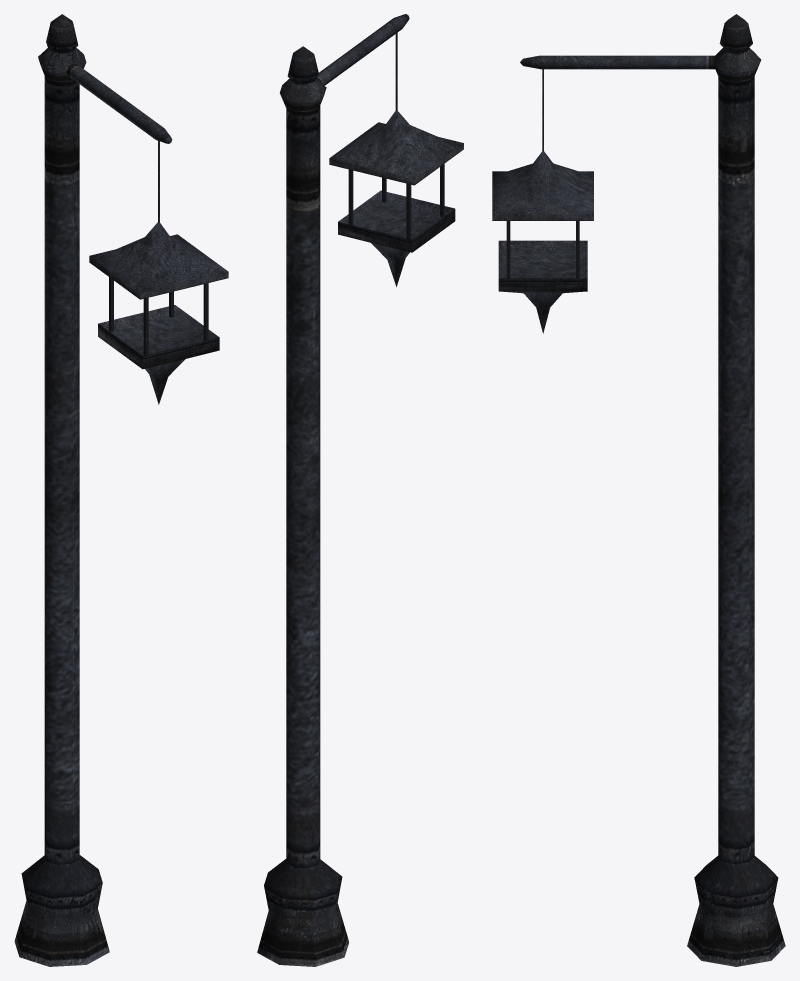
File: LampPost.fbx
The picture shows the model from 3 angles, left to right: view 1: azimuth 30°, elevation 25°; view 2: azimuth 150°, elevation 25°; view 3: azimuth 270°, elevation 25°; orthographic projection. The views are drawn at different scales.
Parts seen in each view (by area): view 1: Pole_Main, Lamp_Case, Pole_2, SmallPoles; view 2: Pole_Main, Lamp_Case, Pole_2, SmallPoles; view 3: Pole_Main, Lamp_Case, Pole_2.
Part boxes in pixels (x1,y1,x2,y2): Pole_Main: [14, 14, 109, 966]; Lamp_Case: [89, 222, 228, 404]; Pole_2: [66, 63, 172, 143]; SmallPoles: [109, 277, 208, 355]; Pole_Main: [257, 46, 349, 966]; Lamp_Case: [329, 110, 463, 286]; Pole_2: [317, 14, 409, 85]; SmallPoles: [348, 164, 444, 239]; Pole_Main: [687, 14, 785, 966]; Lamp_Case: [492, 151, 593, 333]; Pole_2: [520, 55, 716, 69].
Bounding box in the file's own units: 28 × 283 × 80.64.
5 materials, 5 textured.
